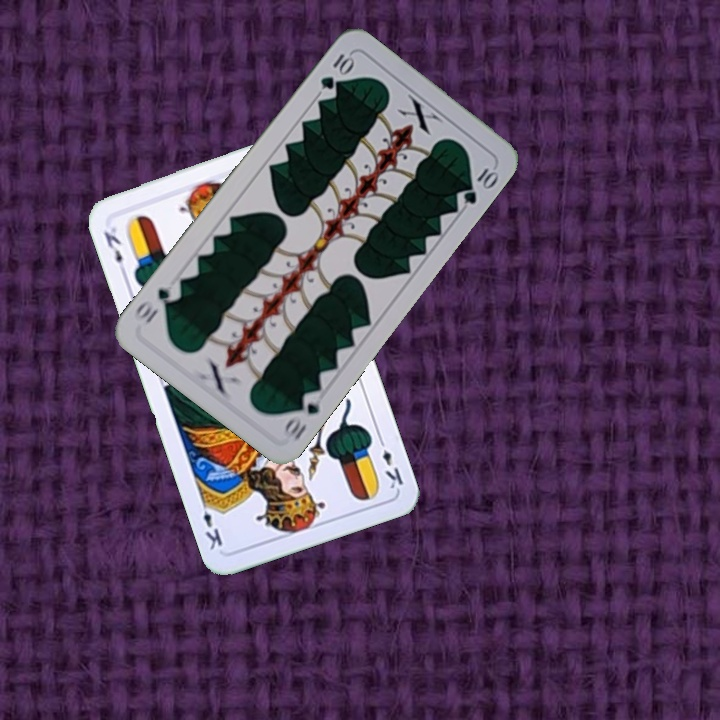EK: (374, 433, 406, 492), (99, 223, 129, 278)
G10: (279, 386, 326, 443), (316, 49, 357, 92)
